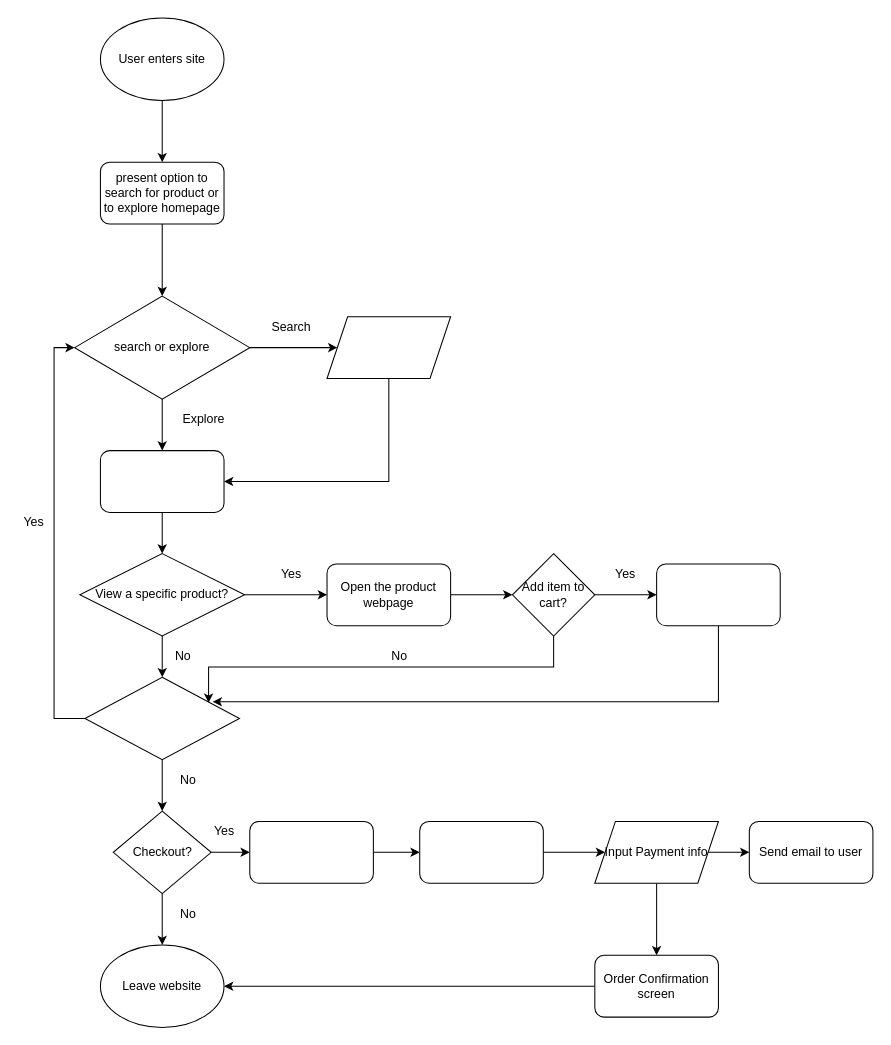
Image size: 891x1045. Some labels were removed from this diagram. The shapes that lost their labels are listed below. From the top down, each one's box as (x1, y1, x2, y2) in pixels, then its label:
(326, 316, 451, 379): Input product to search
(99, 450, 224, 512): User looks at products
(656, 563, 780, 626): added to cart confirmation
(84, 676, 239, 760): Continue shopping?
(249, 820, 373, 883): View Cart screen
(419, 820, 543, 883): View Payment screen
